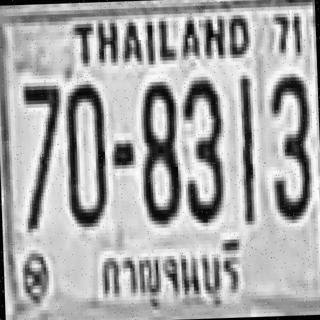N00: (64, 80, 106, 224)
N01: (238, 73, 255, 223)
N03: (179, 76, 224, 220), (268, 70, 310, 216)
N07: (20, 82, 63, 228), (21, 82, 61, 182)
N08: (138, 78, 180, 221)
P17: (90, 228, 250, 315)
